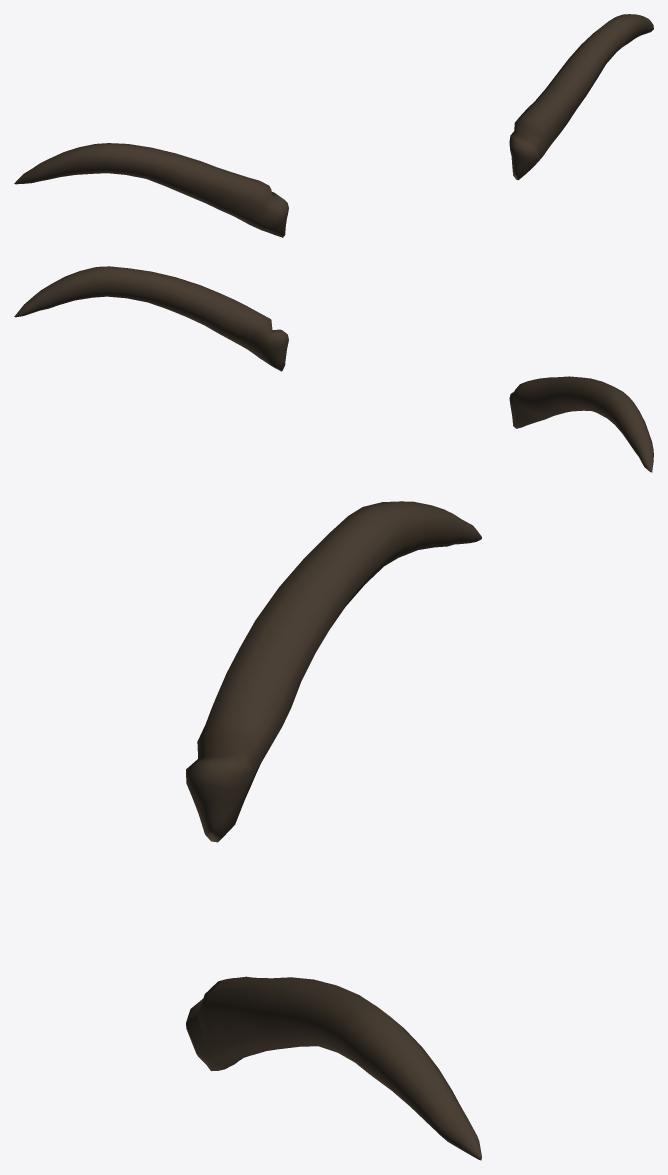
File: eyebrow_01.glb
3 views of the same model, one above another, from view 1: azimuth 30°, elevation 25°; view 2: azimuth 150°, elevation 25°; view 3: azimuth 270°, elevation 25° (orthographic). The views are drawn at different scales.
Parts seen in each view (by area): view 1: arched1, arched2; view 2: arched2, arched1; view 3: arched1, arched2.
Part boxes in pixels (left/top/right/bottom): arched1: left=14, top=143, right=288, bottom=237; arched2: left=509, top=14, right=653, bottom=180; arched2: left=14, top=266, right=288, bottom=371; arched1: left=509, top=376, right=653, bottom=472; arched1: left=186, top=501, right=481, bottom=842; arched2: left=186, top=976, right=481, bottom=1160.
Bounding box in the file's own units: 0.00577 × 0.000846 × 0.00116.
